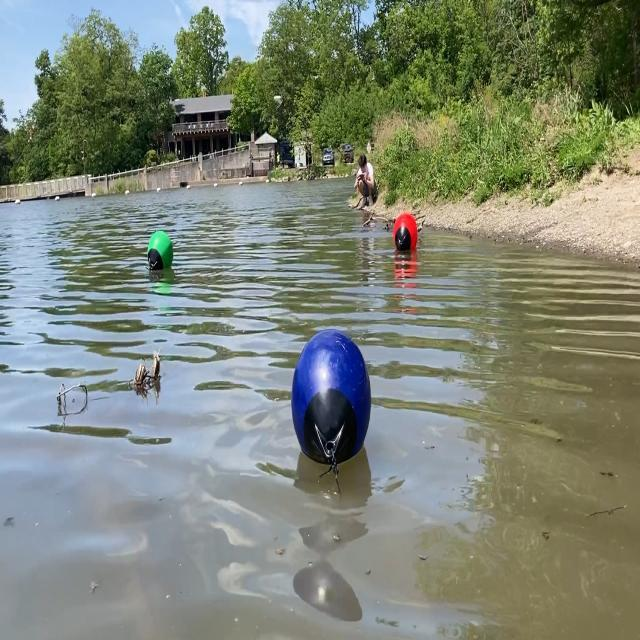buoy: (291, 329, 371, 465), (147, 228, 174, 276), (392, 212, 418, 258)
